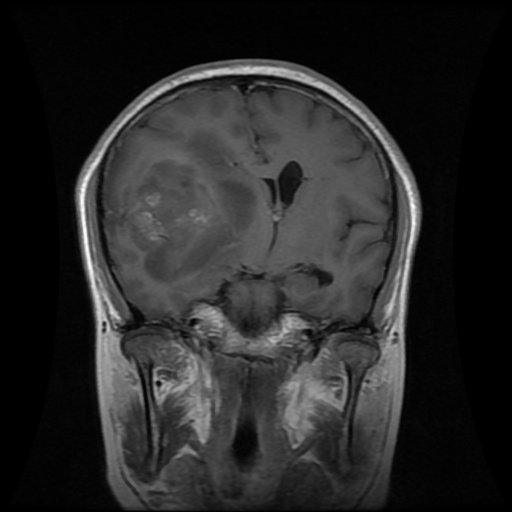glioma: (115, 125, 260, 283)
